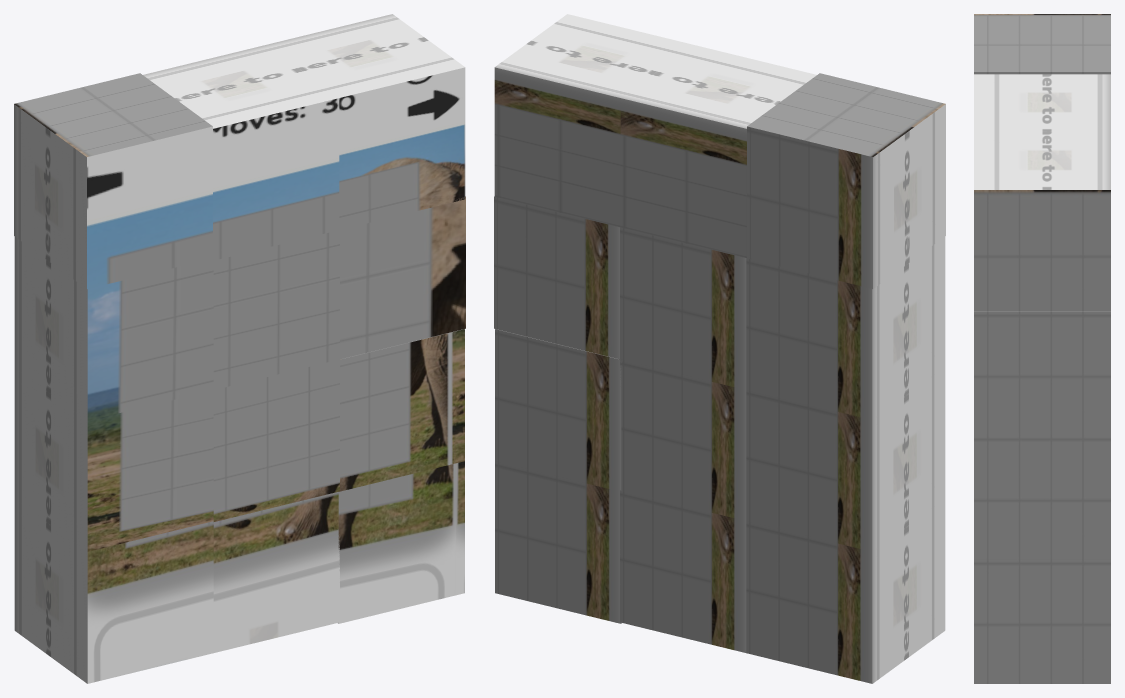
The model's file is puzzle1 1.fbx.
3 views of the same model, side by side, from view 1: azimuth 30°, elevation 25°; view 2: azimuth 150°, elevation 25°; view 3: azimuth 270°, elevation 25° (orthographic). The views are drawn at different scales.
Parts seen in each view (by area): view 1: Cube.002, Cube, Cube.003, Cube.004, Cube.001; view 2: Cube.002, Cube, Cube.003, Cube.004, Cube.001; view 3: Cube.001, Cube.003, Cube.002, Cube.004.
Part boxes in pixels (x1,y1,x2,y2): Cube.002: (14,196,465,521); Cube: (14,368,339,683); Cube.003: (143,14,465,260); Cube.004: (14,73,212,288); Cube.001: (338,329,464,623); Cube.002: (494,196,945,520); Cube: (620,367,945,683); Cube.003: (494,14,816,258); Cube.004: (747,73,945,288); Cube.001: (495,329,621,623); Cube.001: (974,436,1110,683); Cube.003: (974,74,1110,311); Cube.002: (974,311,1110,435); Cube.004: (974,14,1110,74).
Bounding box in the file's own units: 601 × 800 × 200.
